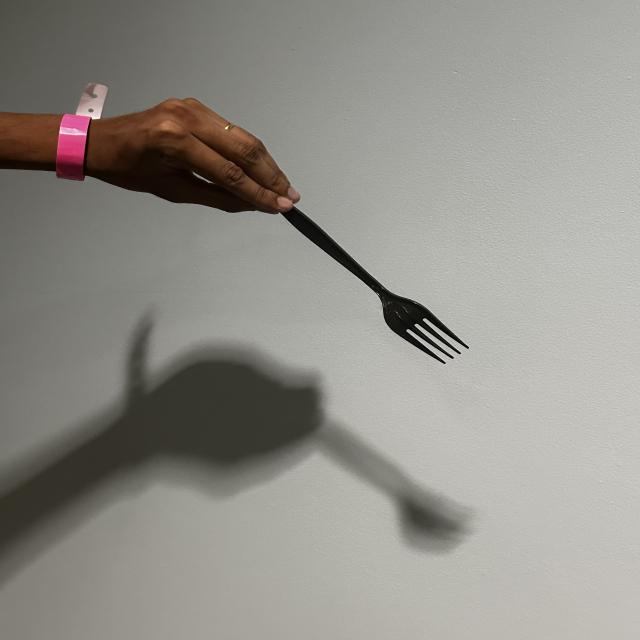fork: (181, 176, 514, 371)
